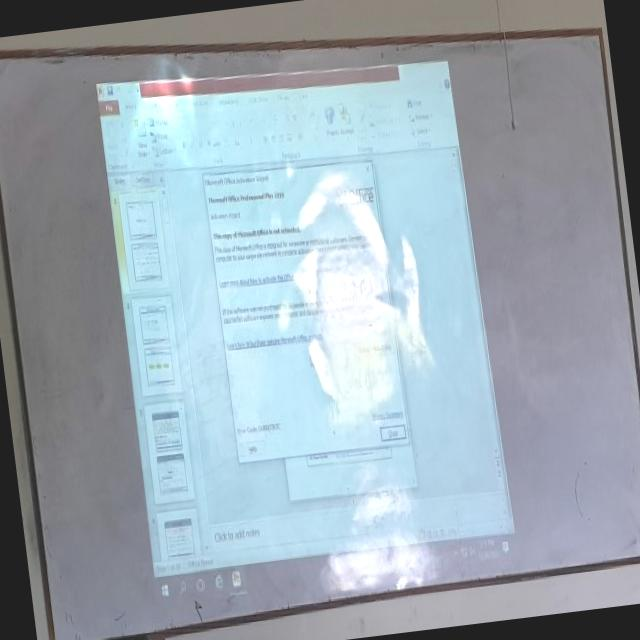Slide: (96, 55, 519, 607)
White-board: (0, 27, 640, 640)
